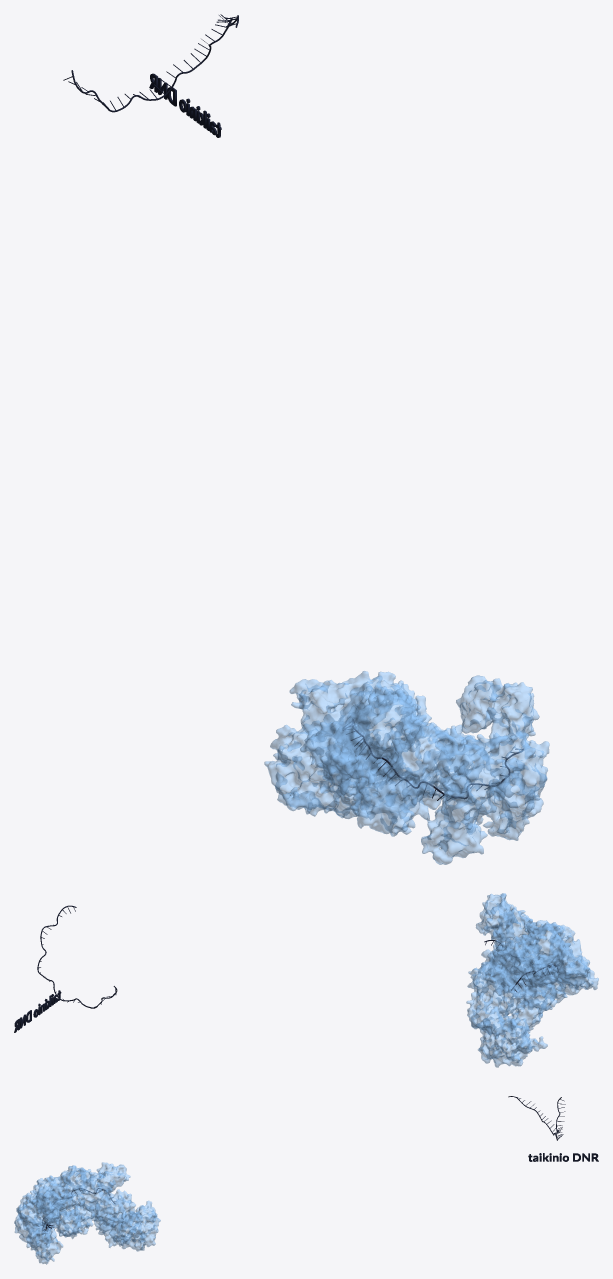
File: crisprcas9.glb
The picture shows the model from 3 angles, top to bottom: view 1: azimuth 30°, elevation 25°; view 2: azimuth 150°, elevation 25°; view 3: azimuth 270°, elevation 25°; orthographic projection. The views are drawn at different scales.
Visible parts, largest first — view 1: crispr; view 2: crispr, dnrtext, dna; view 3: crispr, dnrtext, dna.
Boxes of the visible parts, x1=… form: crispr: x1=264, y1=671, x2=549, y2=864; crispr: x1=466, y1=893, x2=598, y2=1067; dnrtext: x1=14, y1=990, x2=61, y2=1032; dna: x1=37, y1=905, x2=117, y2=1008; crispr: x1=14, y1=1162, x2=160, y2=1264; dnrtext: x1=528, y1=1153, x2=598, y2=1161; dna: x1=508, y1=1096, x2=565, y2=1140.
Size of what is drawn, in the model's own units: 258 by 288 by 681.
